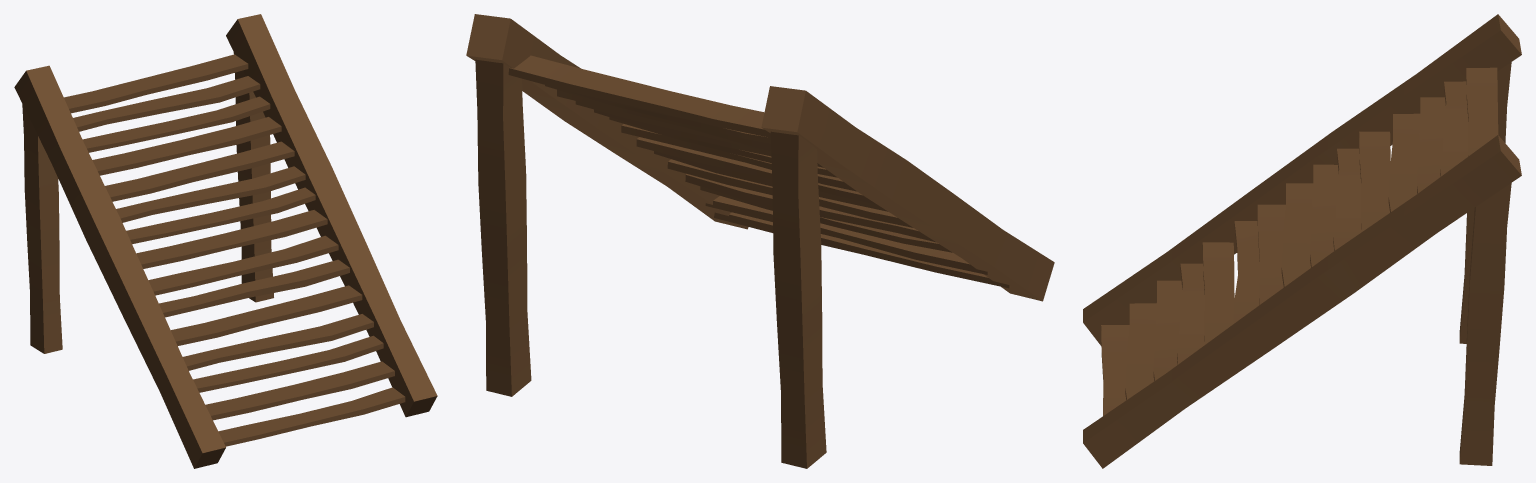
The model's file is SM_stairs_wooden.fbx.
The picture shows the model from 3 angles, left to right: view 1: azimuth 30°, elevation 25°; view 2: azimuth 150°, elevation 25°; view 3: azimuth 270°, elevation 25°; orthographic projection. The views are drawn at different scales.
Parts seen in each view (by area): view 1: Box364; view 2: Box364; view 3: Box364.
Part boxes in pixels (x1,y1,x2,y2): Box364: (14, 14, 437, 468); Box364: (466, 14, 1054, 468); Box364: (1083, 14, 1521, 468).
Bounding box in the file's own units: 130 × 143 × 177.
